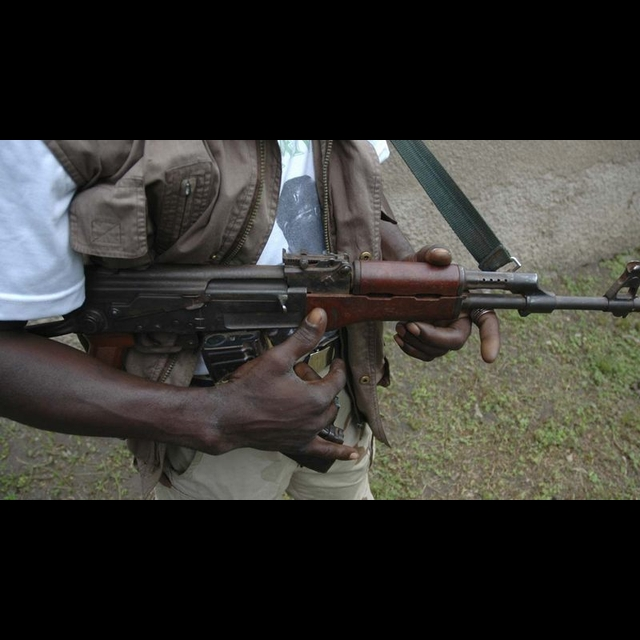AK47: (81, 220, 640, 444)
